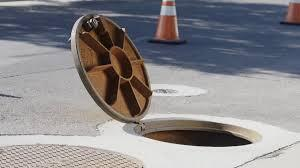open_manhole: (132, 109, 261, 153)
